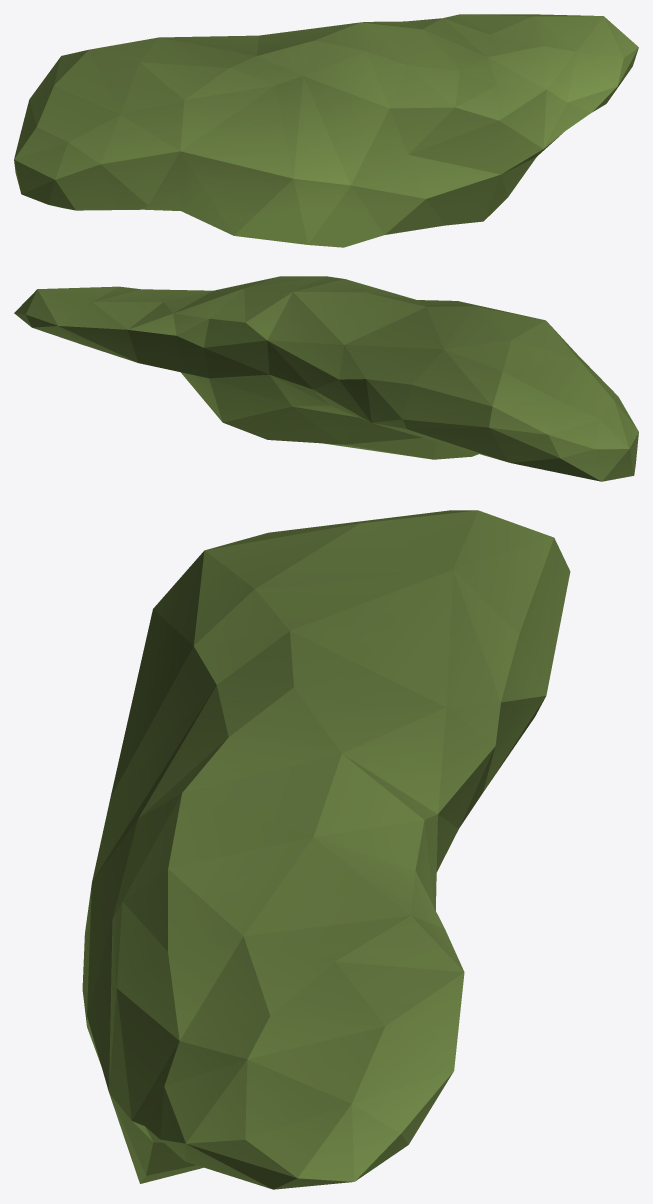
The model's file is Jungle_BushTopper_A.fbx.
3 renders of one model, top to bottom at view 1: azimuth 30°, elevation 25°; view 2: azimuth 150°, elevation 25°; view 3: azimuth 270°, elevation 25°, orthographic. The views are drawn at different scales.
Parts seen in each view (by area): view 1: Jungle_BushTopper_A; view 2: Jungle_BushTopper_A; view 3: Jungle_BushTopper_A.
Boxes of the visible parts, x1=… form: Jungle_BushTopper_A: x1=14, y1=14, x2=638, y2=247; Jungle_BushTopper_A: x1=14, y1=276, x2=638, y2=481; Jungle_BushTopper_A: x1=82, y1=510, x2=570, y2=1189.
Bounding box in the file's own units: 7.54 × 2.26 × 2.64.
